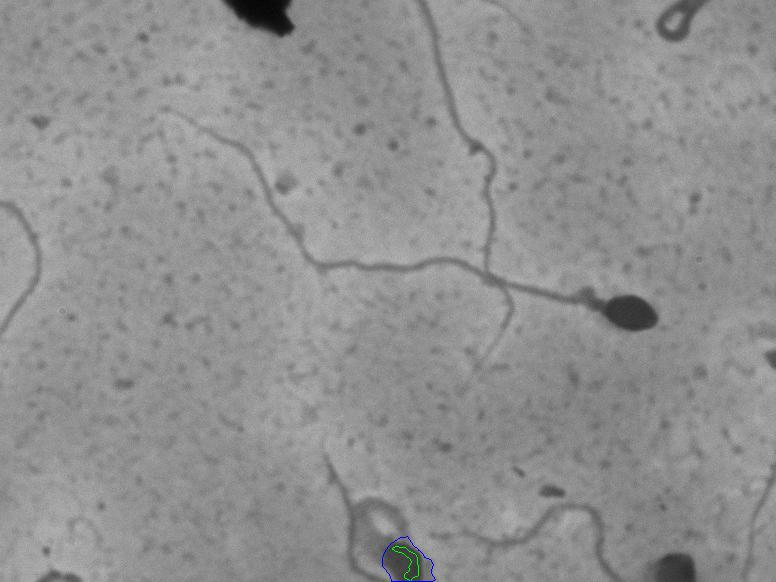Normal: (141, 93, 688, 346)
